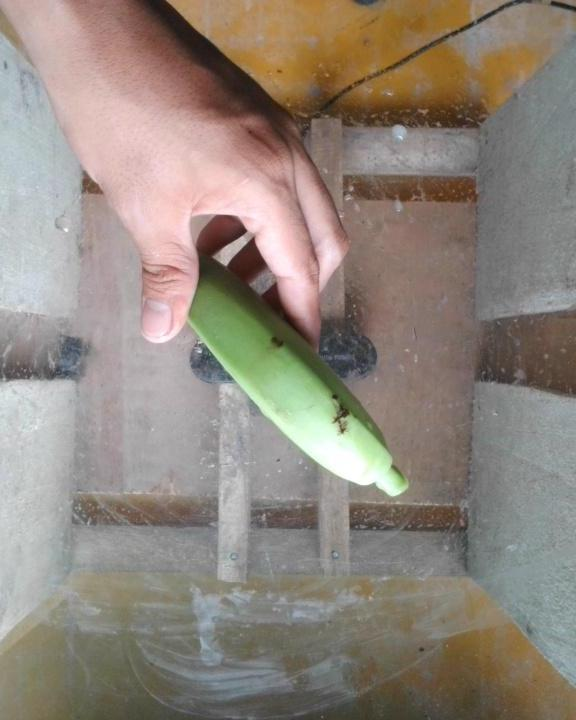CLASS B: (143, 247, 432, 500)
Class A: (318, 386, 366, 438), (262, 328, 298, 367)
